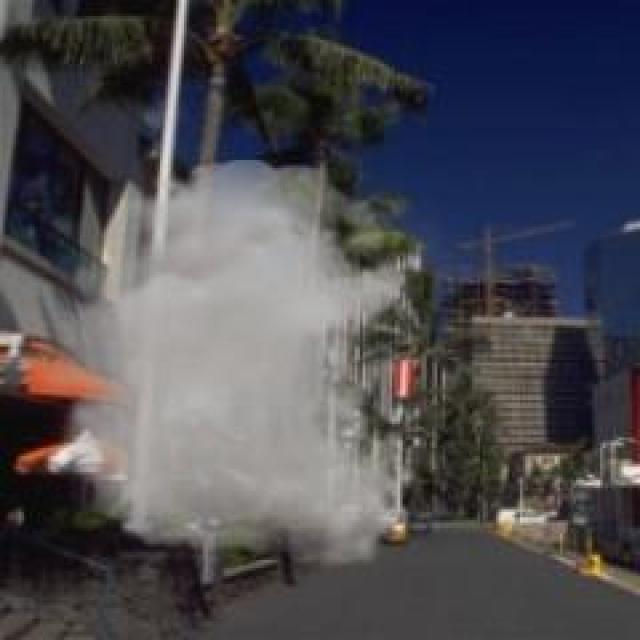Smoke: (70, 152, 410, 577)
